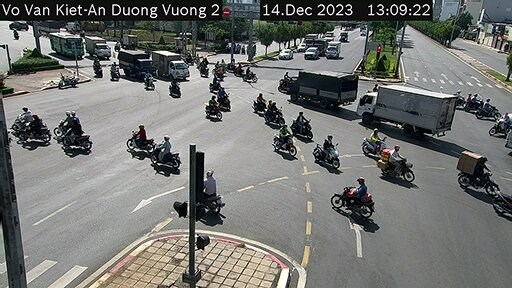bus: (51, 33, 83, 57)
car: (119, 44, 152, 79), (277, 47, 292, 61), (306, 43, 316, 60)
motorbike: (332, 176, 373, 218), (458, 152, 496, 196), (146, 131, 179, 176), (309, 135, 343, 177), (125, 120, 156, 163), (265, 129, 303, 164), (381, 145, 410, 187), (198, 172, 220, 214), (358, 133, 386, 163), (291, 115, 317, 141), (215, 87, 236, 117), (263, 100, 284, 127), (202, 97, 227, 118)
truck: (373, 82, 449, 134), (279, 66, 354, 111), (157, 50, 189, 85), (118, 47, 151, 80), (88, 32, 110, 60), (330, 38, 340, 59)
